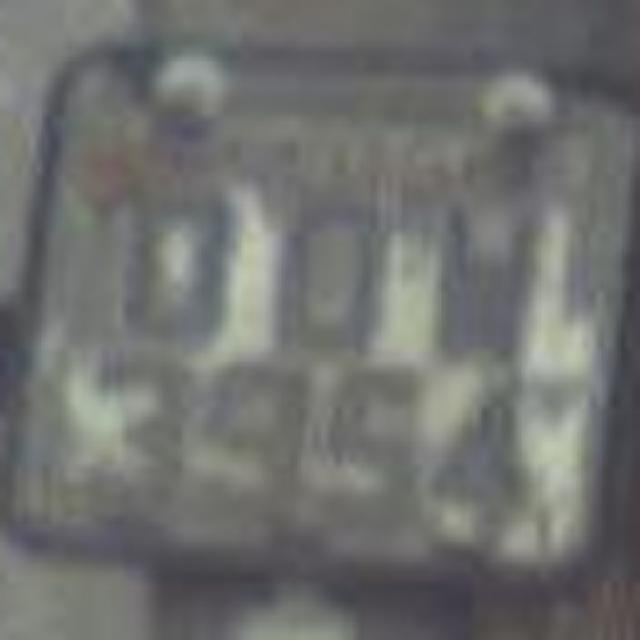4: (424, 352, 556, 568)
5: (296, 352, 452, 528)
9: (176, 336, 329, 529)
D: (108, 176, 240, 352), (268, 176, 380, 356)
W: (420, 176, 528, 364)
